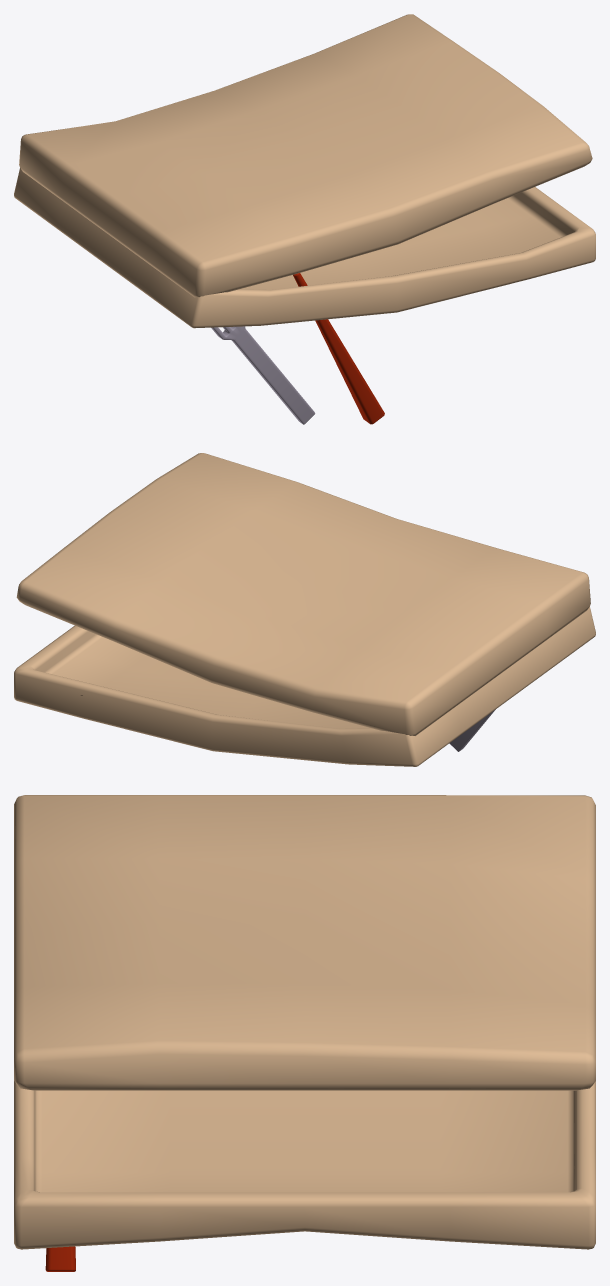
Rendered from Pizzabox_Spoiler.fbx.
3 views of the same model, one above another, from view 1: azimuth 30°, elevation 25°; view 2: azimuth 150°, elevation 25°; view 3: azimuth 270°, elevation 25° (orthographic). The views are drawn at different scales.
Parts seen in each view (by area): view 1: Cube.001, Cube.004, Cube.010, Cube.009; view 2: Cube.001, Cube.004, Cube.010; view 3: Cube.001, Cube.004, Cube.009.
Part boxes in pixels (bbox=[...]): Cube.001: bbox=[19, 14, 592, 297]; Cube.004: bbox=[14, 168, 595, 328]; Cube.010: bbox=[211, 326, 315, 424]; Cube.009: bbox=[293, 273, 384, 424]; Cube.001: bbox=[16, 453, 590, 735]; Cube.004: bbox=[14, 606, 595, 766]; Cube.010: bbox=[449, 709, 495, 751]; Cube.001: bbox=[14, 795, 595, 1090]; Cube.004: bbox=[14, 1081, 595, 1249]; Cube.009: bbox=[45, 1246, 75, 1271].
Bounding box in the file's own units: 1.16 × 0.67 × 0.9062.
